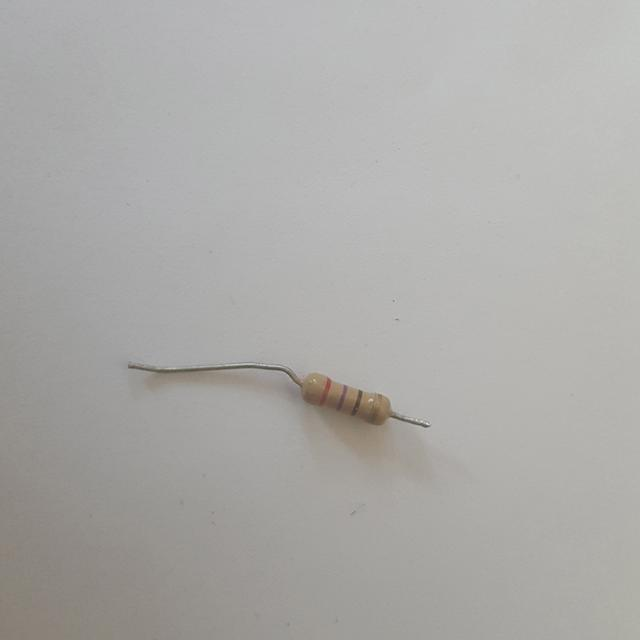black: (352, 390, 362, 413)
gold: (370, 392, 381, 421)
red: (321, 377, 331, 405)
resistor: (299, 369, 395, 431)
violet: (337, 385, 347, 411)
